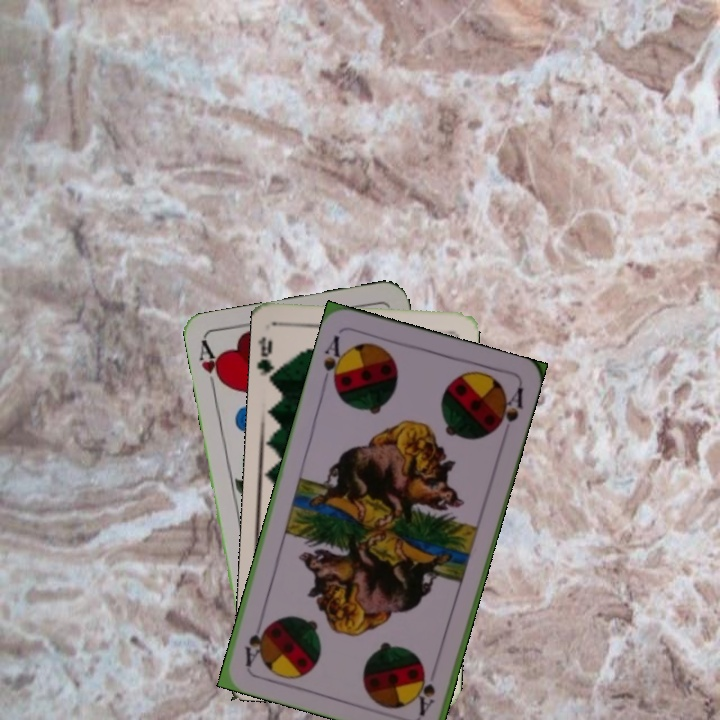G9: (255, 332, 283, 385)
HA: (195, 337, 227, 396)
SA: (318, 331, 349, 390), (414, 668, 438, 718)
